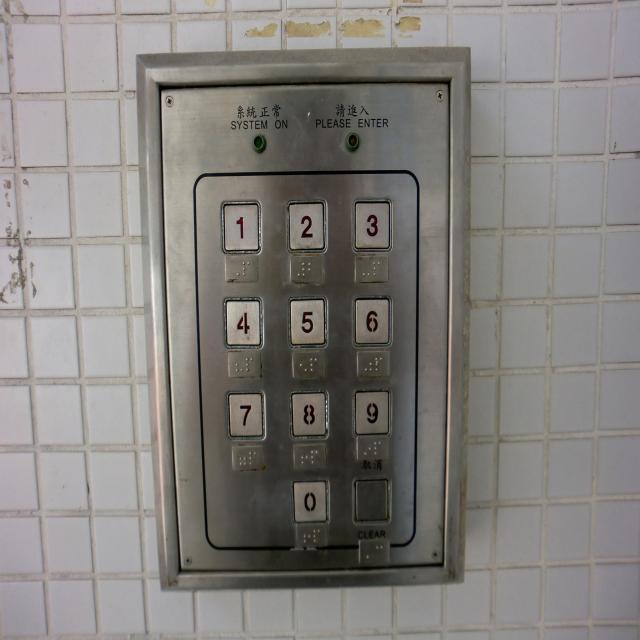0: (291, 476, 330, 526)
1: (220, 199, 263, 256)
2: (285, 197, 328, 254)
3: (351, 196, 394, 254)
4: (222, 293, 264, 351)
5: (286, 293, 329, 350)
6: (351, 292, 394, 350)
7: (225, 388, 267, 443)
8: (288, 386, 330, 441)
9: (351, 385, 392, 440)
empty: (352, 474, 391, 524)
